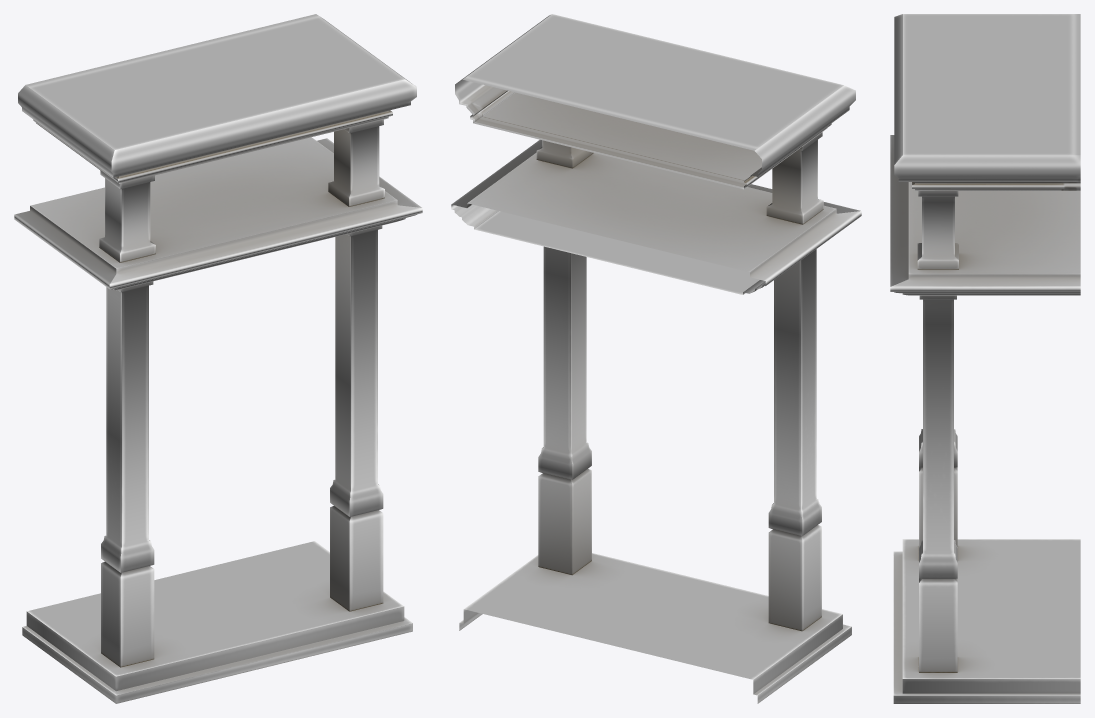
File: Door_Border_White.fbx
3 renders of one model, left to right at view 1: azimuth 30°, elevation 25°; view 2: azimuth 150°, elevation 25°; view 3: azimuth 270°, elevation 25°, orthographic.
Parts seen in each view (by area): view 1: Door_Border_White; view 2: Door_Border_White; view 3: Door_Border_White.
Boxes of the visible parts, box(x1,y1,x2,y2) form: Door_Border_White: box(14, 14, 422, 703); Door_Border_White: box(451, 14, 861, 703); Door_Border_White: box(890, 14, 1080, 703).
Size of the model in its own units: 188 by 315 by 99.24.
Materials: 1 (1 with a texture image).
